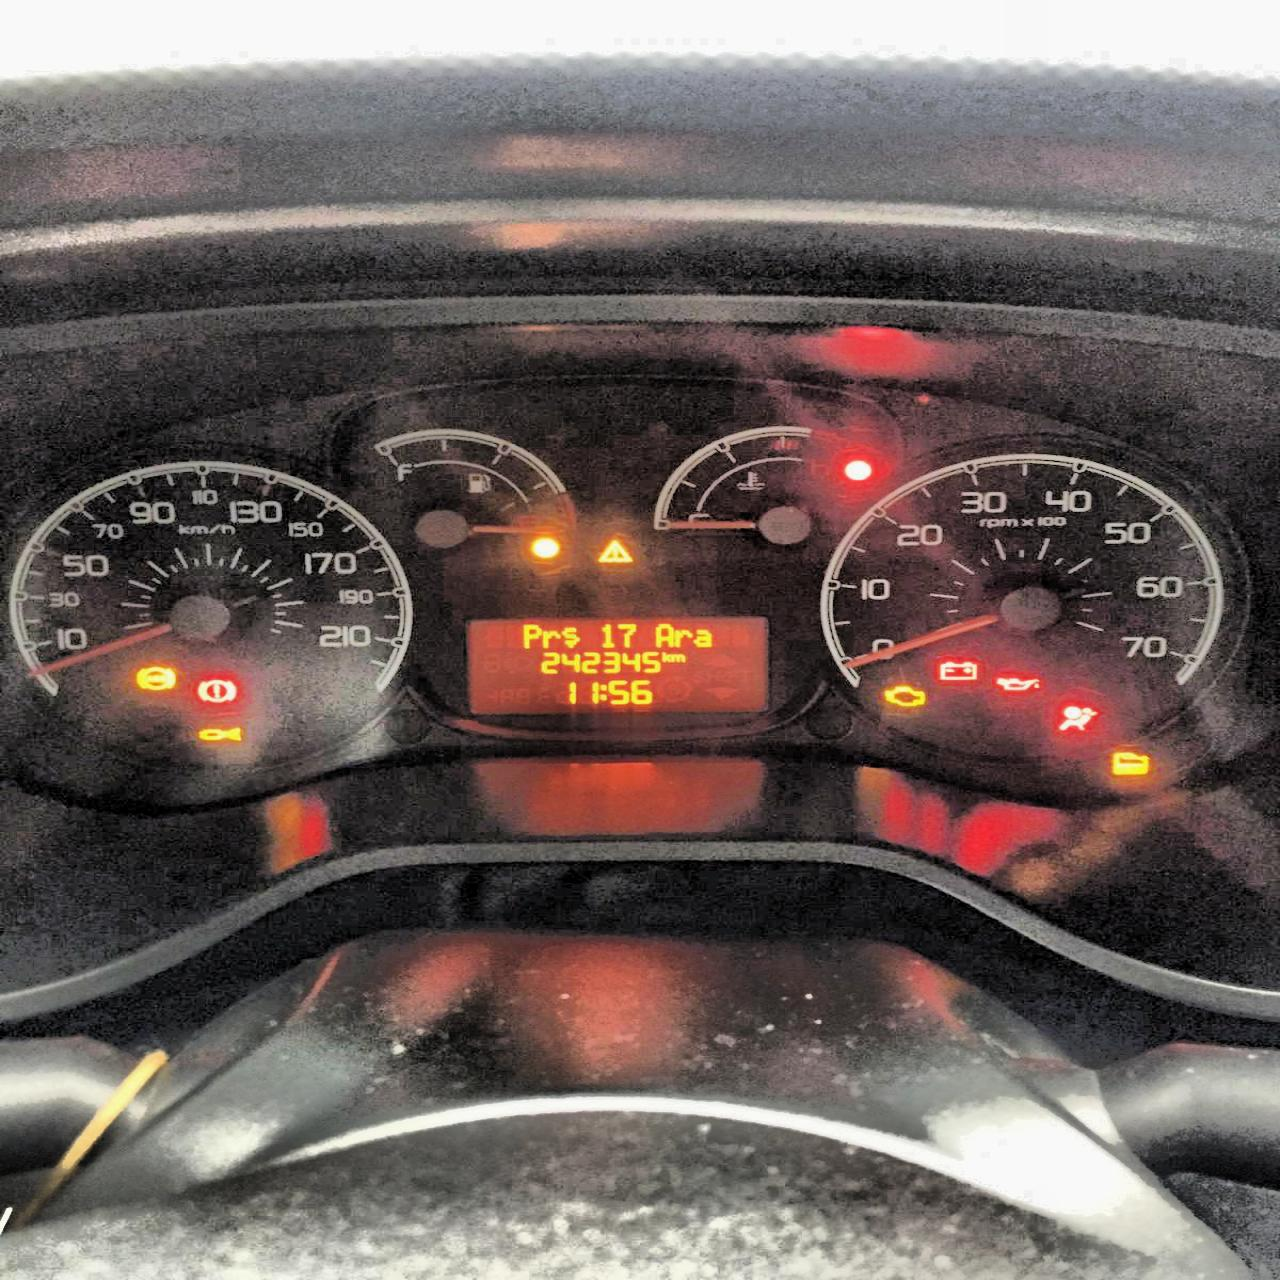1: (600, 622, 613, 648), (590, 681, 598, 704), (567, 681, 576, 704)
2: (540, 652, 559, 674), (580, 652, 599, 673)
3: (601, 652, 620, 673)
4: (560, 652, 580, 673), (621, 652, 640, 670)
5: (607, 679, 629, 704), (641, 652, 660, 673)
6: (629, 679, 652, 704)
7: (615, 622, 635, 647)
X: (654, 622, 673, 647), (522, 624, 540, 648), (560, 626, 579, 648), (692, 628, 712, 647), (673, 628, 692, 647), (542, 629, 560, 648), (598, 683, 607, 701), (669, 653, 685, 661), (660, 652, 669, 662)
odometer: (463, 614, 772, 720)
